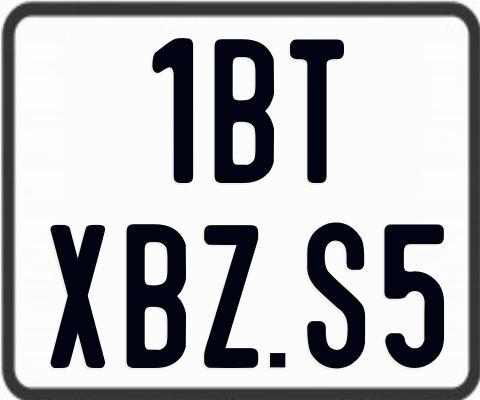1: (151, 35, 198, 185)
5: (383, 224, 445, 371)
B: (213, 39, 276, 186), (125, 221, 186, 369)
S: (307, 219, 370, 367)
T: (290, 38, 349, 185)
X: (49, 223, 105, 367)
Z: (204, 225, 261, 370)
